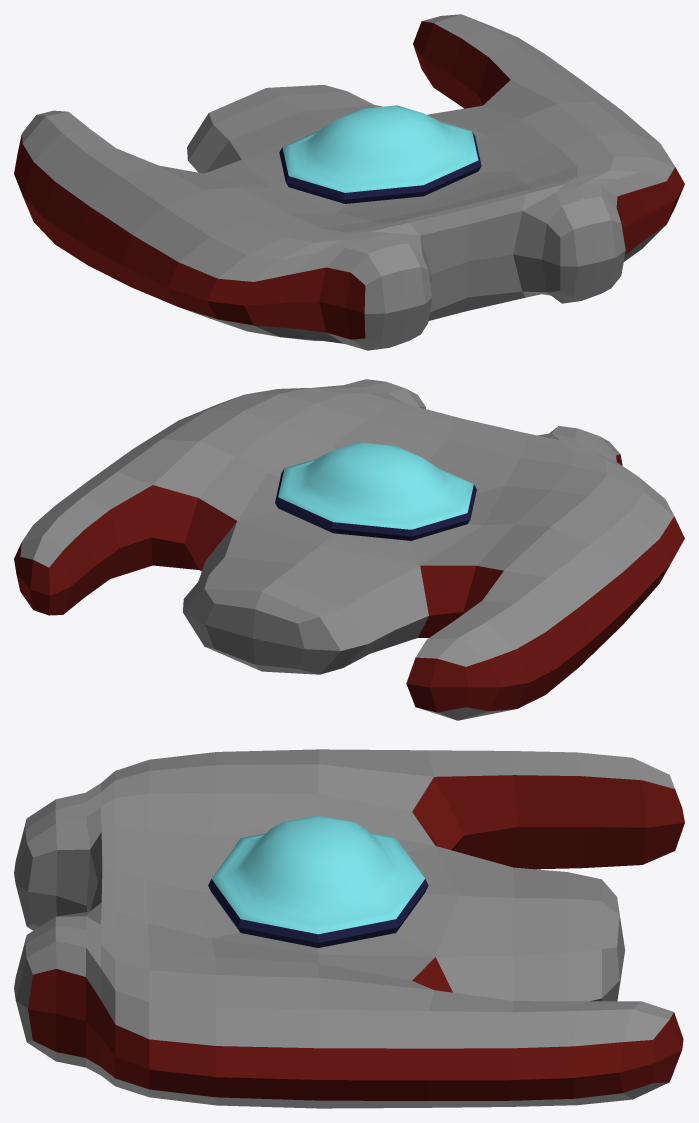
The model's file is Shuttle-Pirate.fbx.
3 views of the same model, one above another, from view 1: azimuth 30°, elevation 25°; view 2: azimuth 150°, elevation 25°; view 3: azimuth 270°, elevation 25° (orthographic). The views are drawn at different scales.
Visible parts, largest first — view 1: ShuttlePirate; view 2: ShuttlePirate; view 3: ShuttlePirate.
Boxes of the visible parts, x1,y1,x2,y2 form: ShuttlePirate: (14,14,684,350); ShuttlePirate: (14,379,684,720); ShuttlePirate: (14,749,684,1108).
Size of the model in its own units: 256 by 73.9 by 282.
